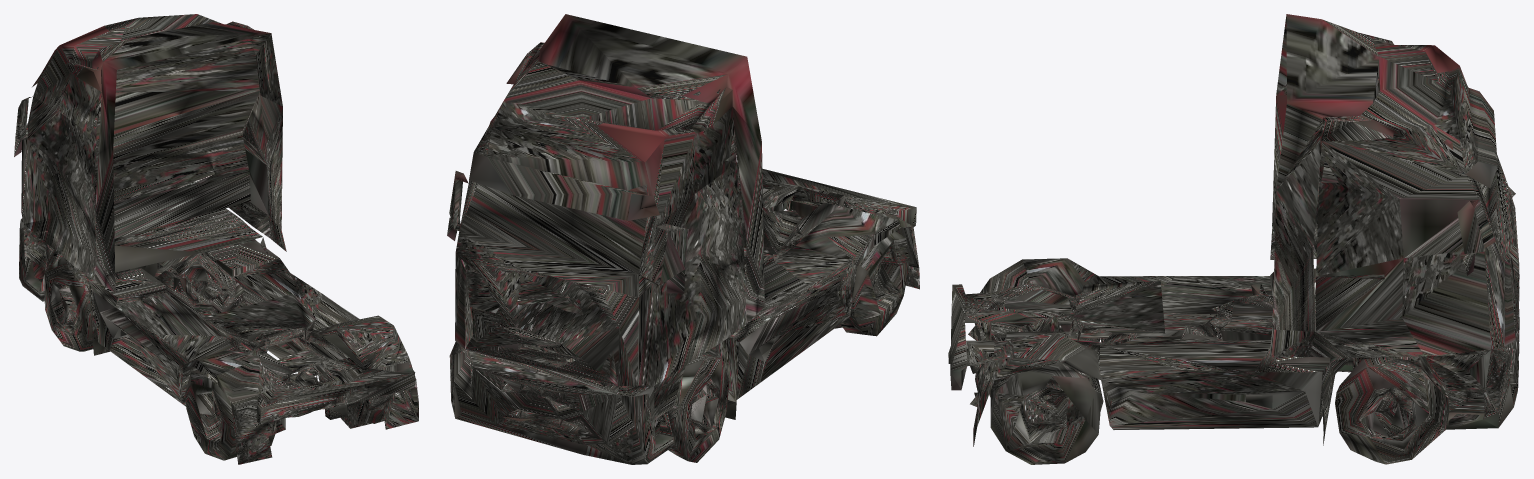
File: Semi_Truck_Tractor_24.glb
3 renders of one model, left to right at view 1: azimuth 30°, elevation 25°; view 2: azimuth 150°, elevation 25°; view 3: azimuth 270°, elevation 25°, orthographic. The views are drawn at different scales.
Visible parts, largest first — view 1: output_unwrapped; view 2: output_unwrapped; view 3: output_unwrapped.
Part boxes in pixels (x1,y1,x2,y2): output_unwrapped: (14,14,418,464); output_unwrapped: (447,14,919,464); output_unwrapped: (948,14,1519,464).
Bounding box in the file's own units: 3.32 × 4.86 × 6.99.
Materials: 1 (1 with a texture image).
